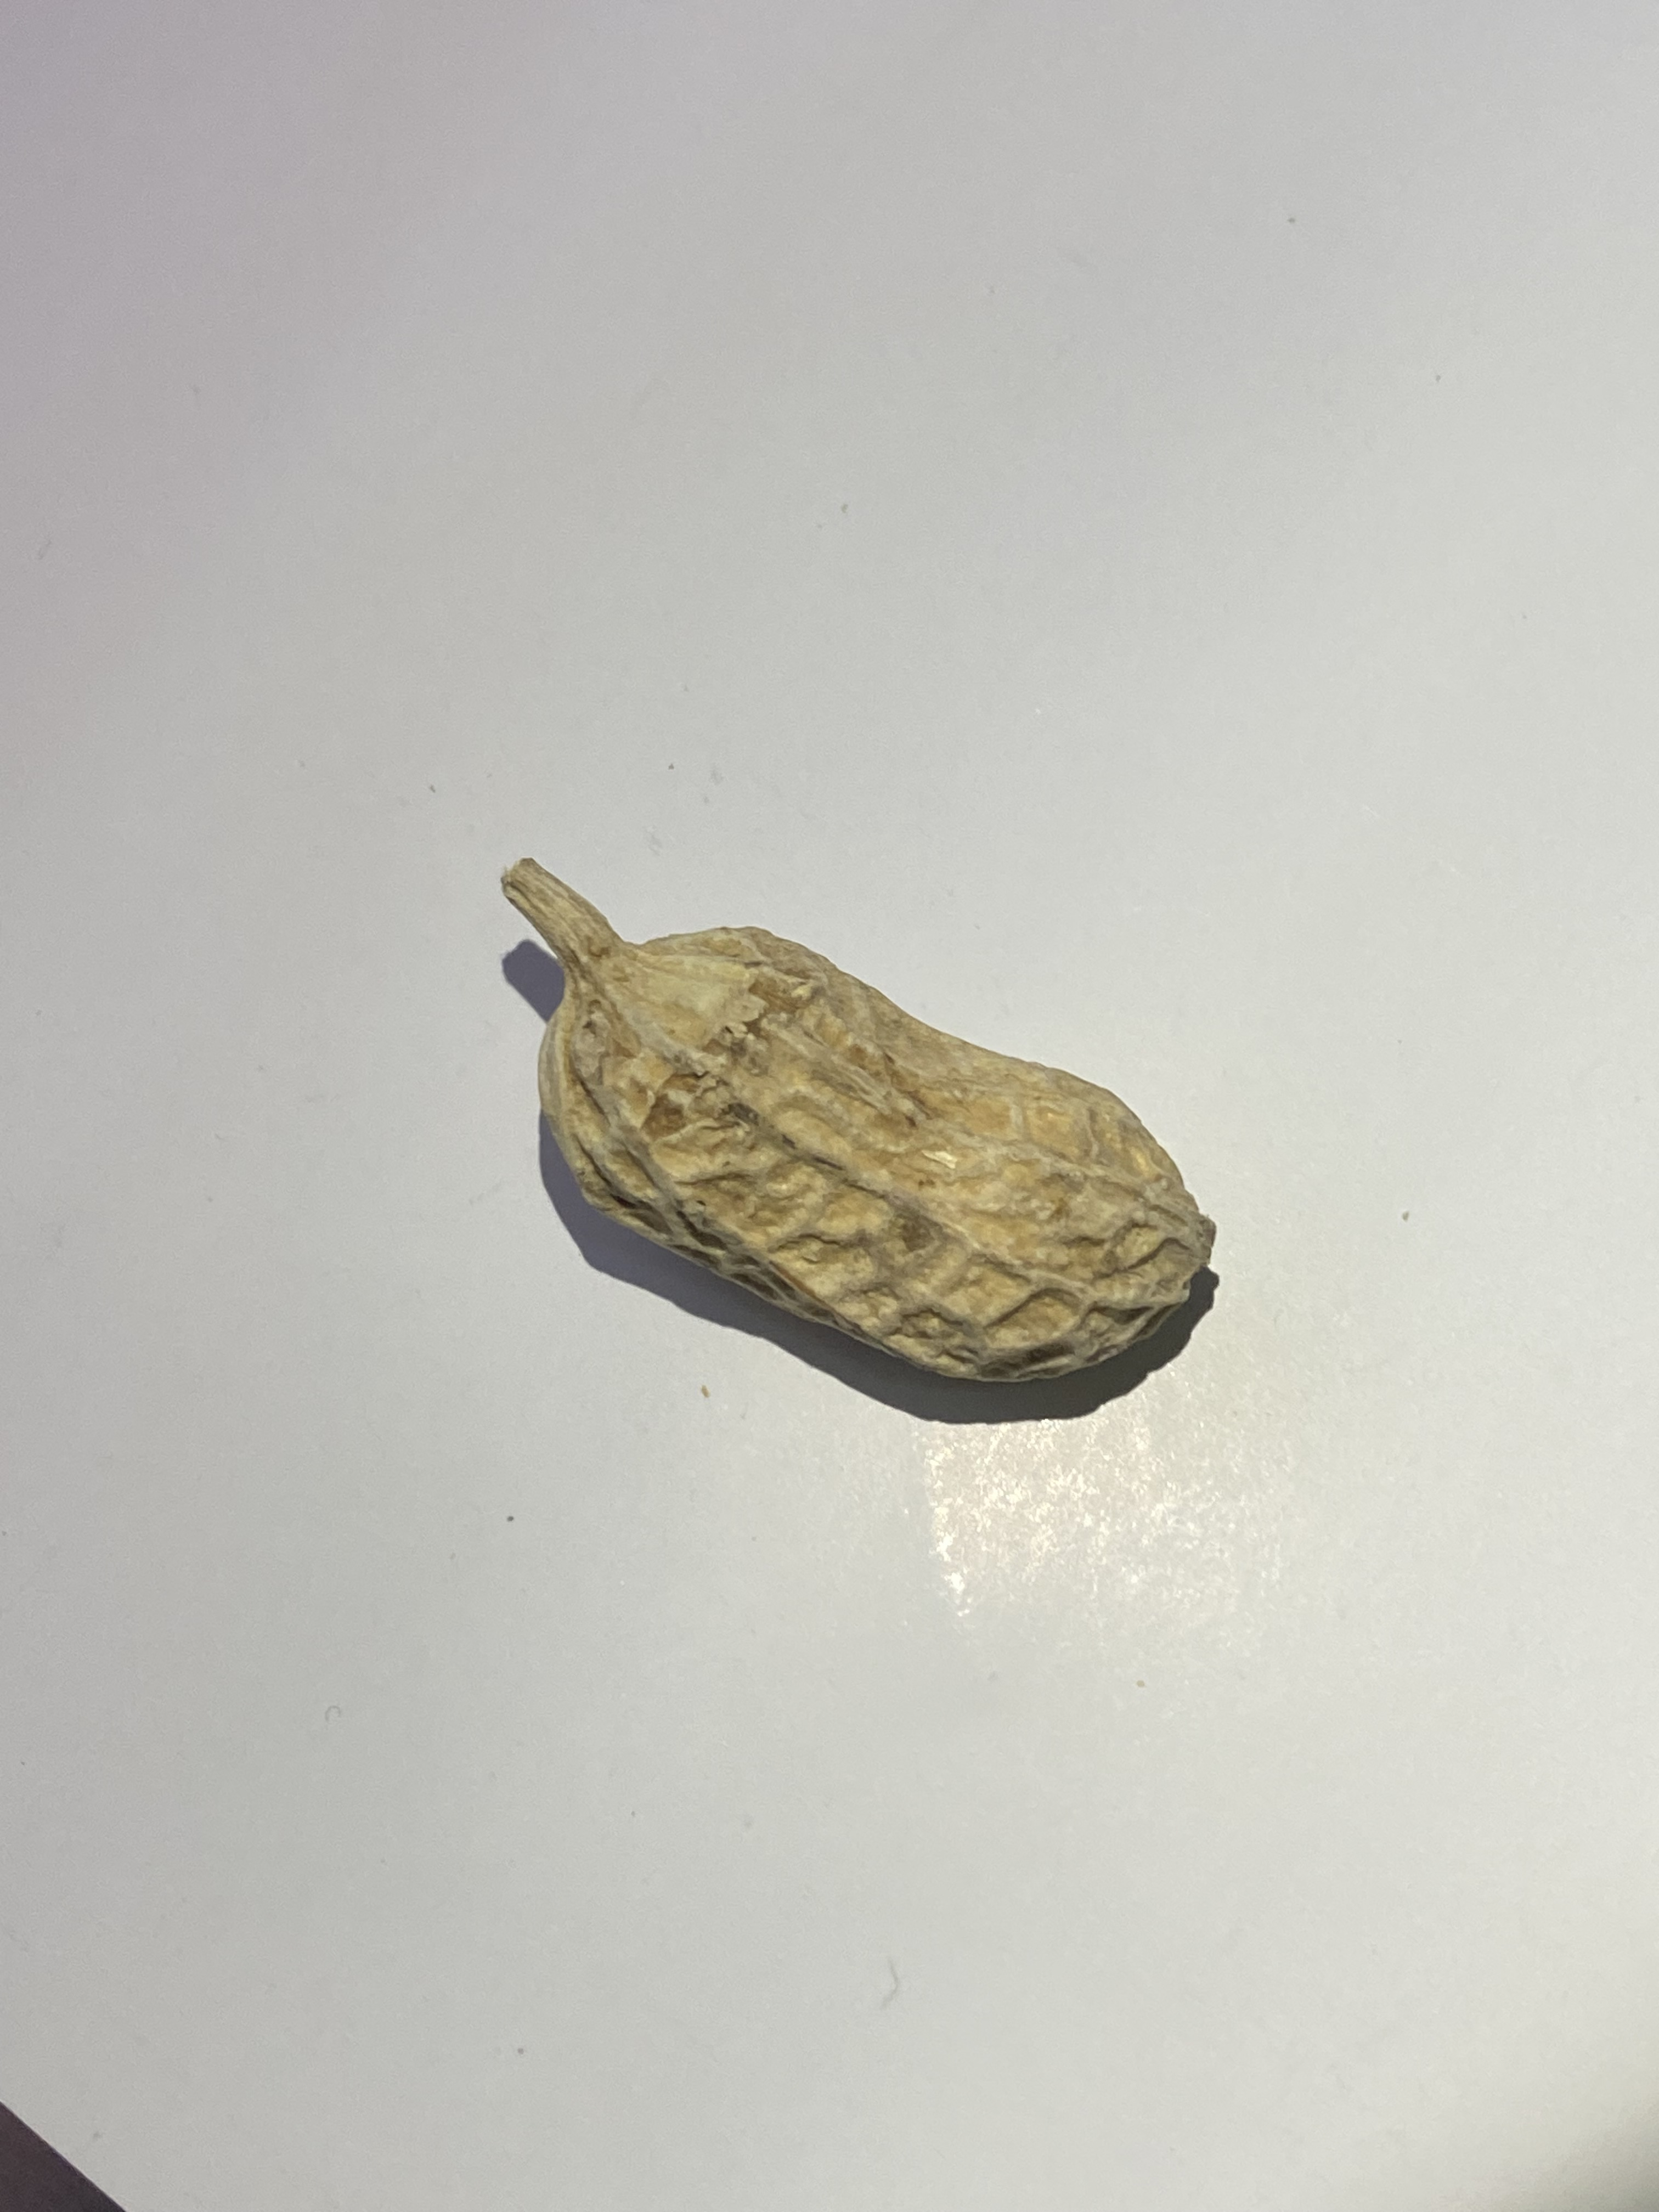kacang2: (481, 829, 1288, 1400)
